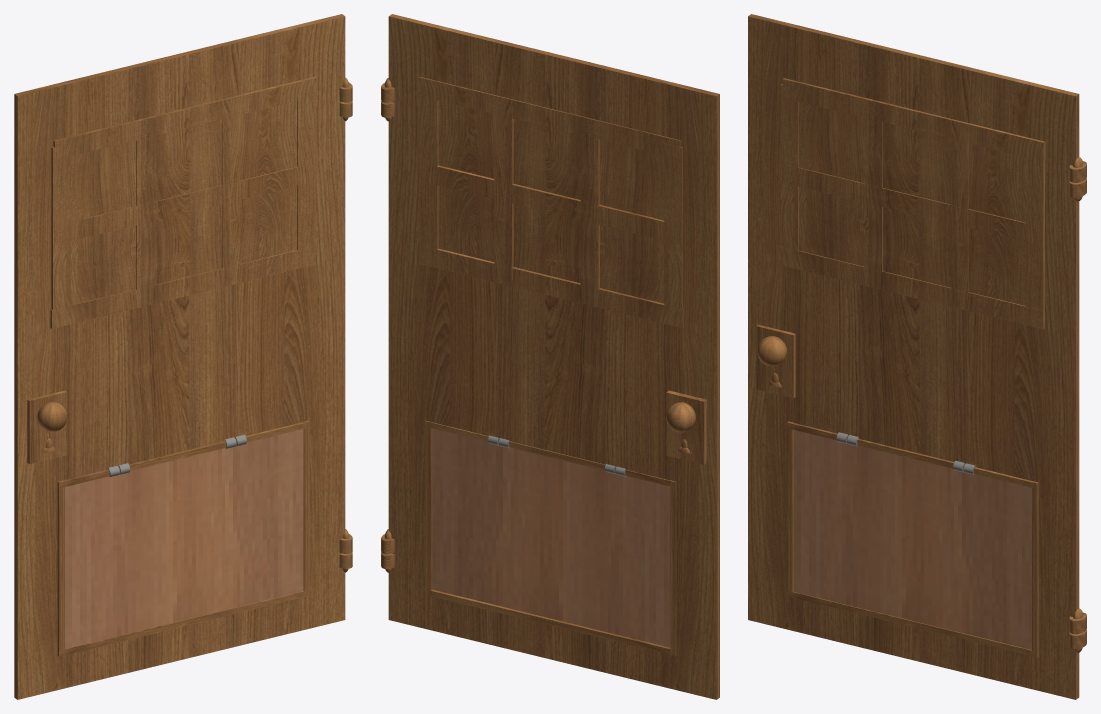
The model's file is puerta.obj.
3 renders of one model, left to right at view 1: azimuth 30°, elevation 25°; view 2: azimuth 150°, elevation 25°; view 3: azimuth 330°, elevation 25°, orthographic.
Visible parts, largest first — view 1: casa:casa:polySurface7567; view 2: casa:casa:polySurface7567; view 3: casa:casa:polySurface7567.
Boxes of the visible parts, x1,y1,x2,y2 form: casa:casa:polySurface7567: (14,14,352,699); casa:casa:polySurface7567: (381,14,719,699); casa:casa:polySurface7567: (748,14,1086,699).
Bounding box in the file's own units: 1.89 × 3.25 × 0.2907.
Materials: 6 (6 with a texture image).
